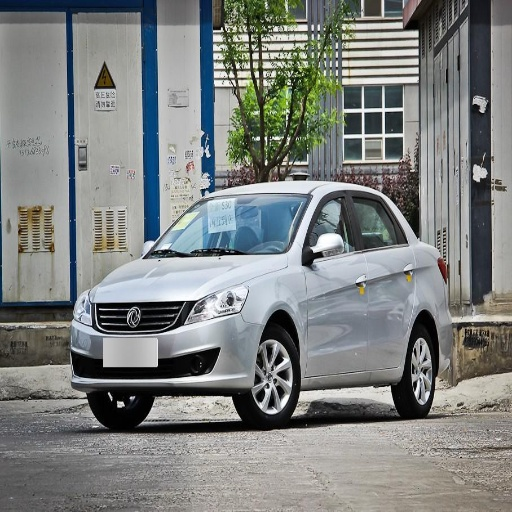back_left_door: (348, 190, 414, 371)
front_bumper: (70, 285, 265, 392)
front_glass: (145, 196, 310, 257)
front_left_door: (303, 189, 369, 377)
